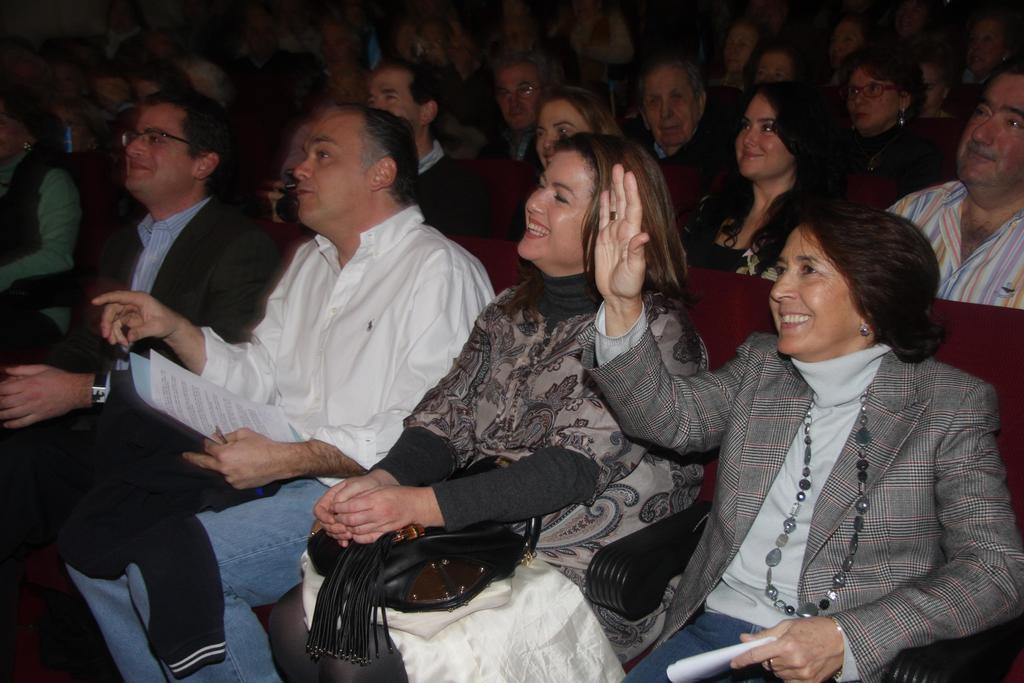Human_hand: (88, 280, 194, 368), (593, 160, 652, 303), (726, 617, 846, 682), (178, 423, 284, 493), (329, 483, 420, 548), (0, 364, 85, 431), (313, 475, 387, 550), (268, 180, 289, 227)
